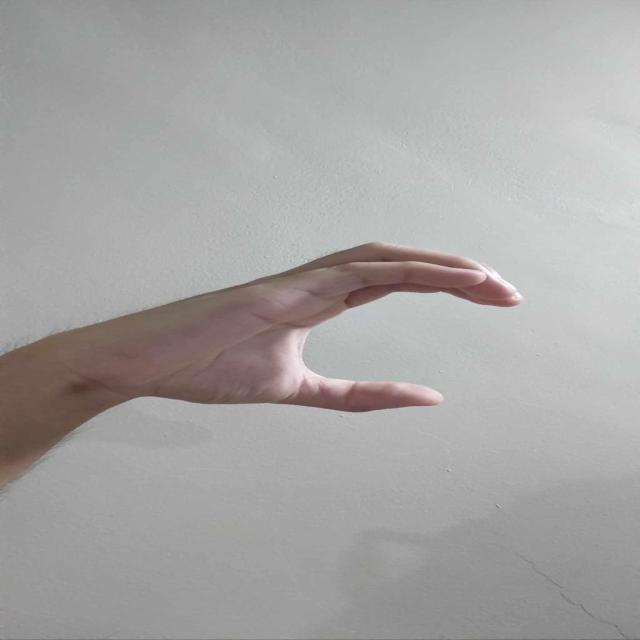C: (116, 242, 522, 414)
